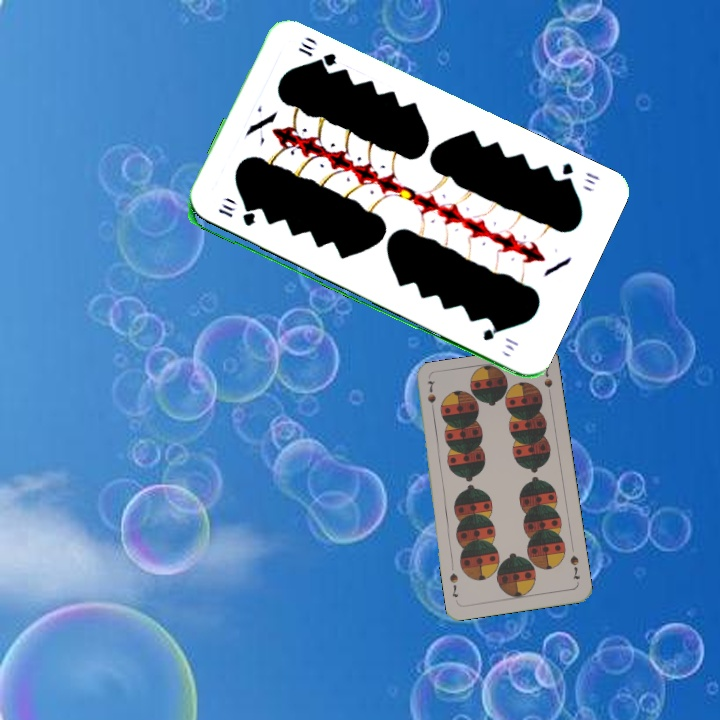G10: (554, 158, 602, 189), (214, 200, 258, 229)
S7: (423, 377, 438, 417), (566, 551, 583, 582)
